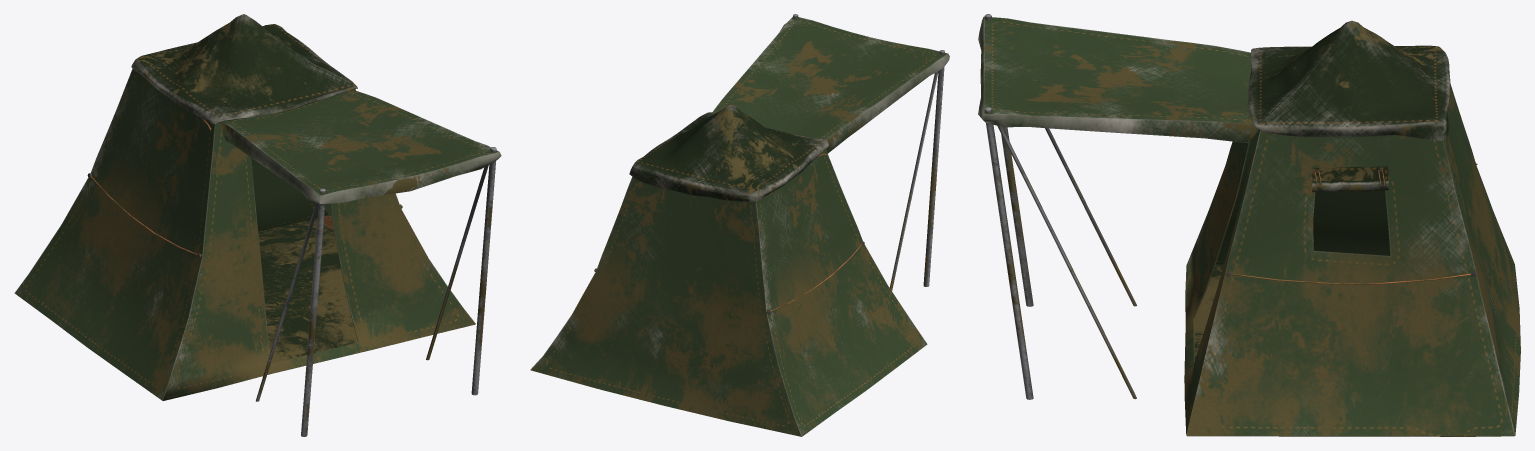
Rendered from tentv2.glb.
3 renders of one model, left to right at view 1: azimuth 30°, elevation 25°; view 2: azimuth 150°, elevation 25°; view 3: azimuth 270°, elevation 25°, orthographic. The views are drawn at different scales.
Parts seen in each view (by area): view 1: TANT; view 2: TANT; view 3: TANT.
Part boxes in pixels (x1,y1,x2,y2): TANT: (14,14,501,436); TANT: (530,14,949,436); TANT: (978,14,1520,436).
Bounding box in the file's own units: 25.71 × 22.94 × 34.18.
Materials: 1 (1 with a texture image).
